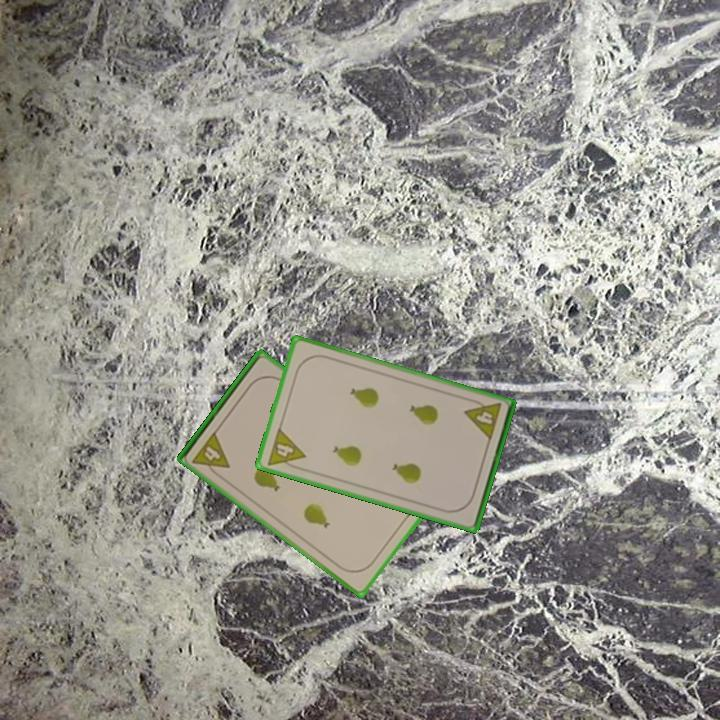4p: (189, 427, 233, 480), (263, 424, 308, 473), (461, 395, 504, 443)
